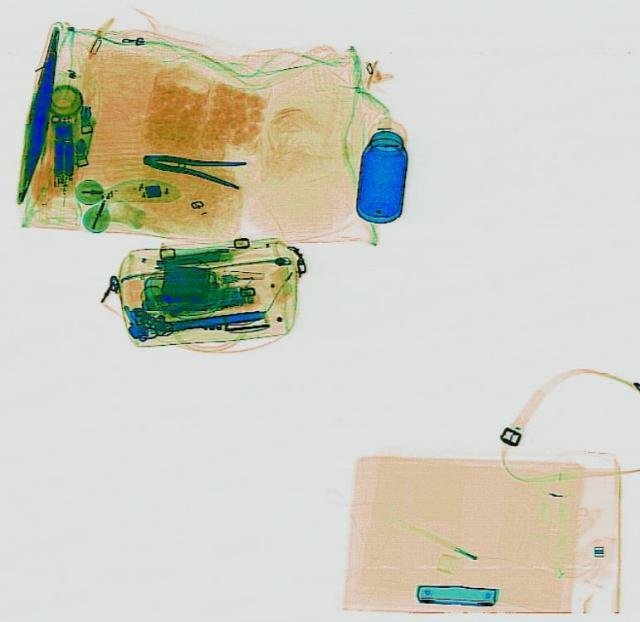Pliers: (138, 144, 245, 189)
